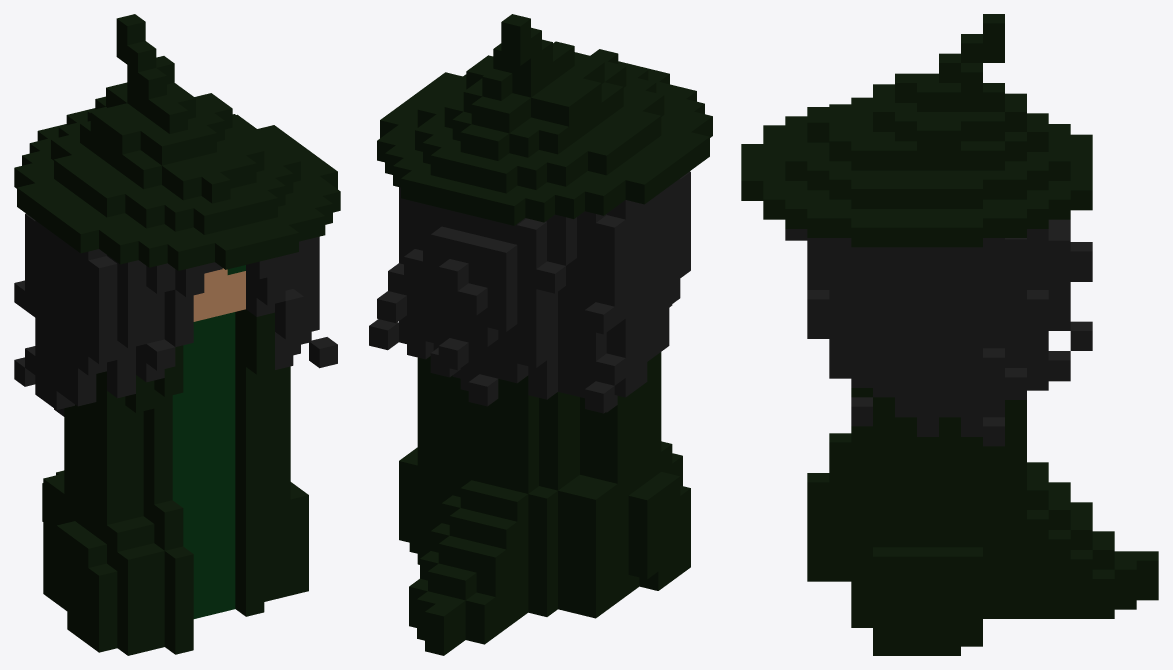
Rendered from Bruxa 03 - Andando-04.obj.
The picture shows the model from 3 angles, left to right: view 1: azimuth 30°, elevation 25°; view 2: azimuth 150°, elevation 25°; view 3: azimuth 270°, elevation 25°; orthographic projection. The views are drawn at different scales.
Size of the model in its own units: 14 by 29 by 19.
Materials: 1 (1 with a texture image).
